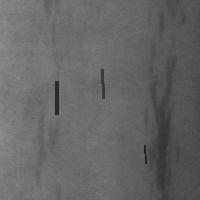inclusion: (141, 36, 183, 199), (33, 106, 56, 183), (153, 5, 171, 42), (100, 67, 105, 100), (54, 79, 58, 116), (142, 143, 147, 165)
